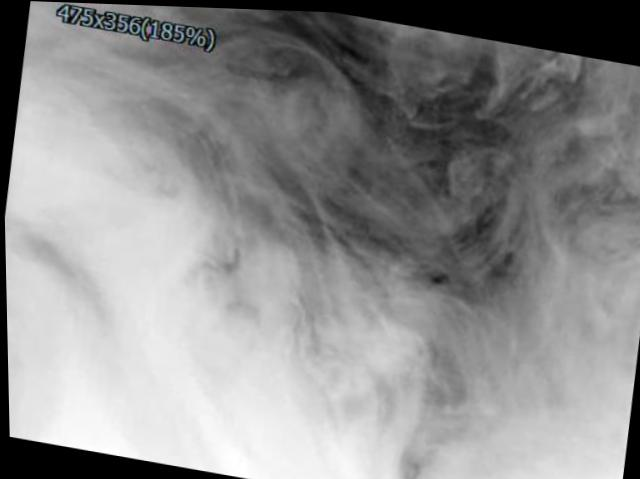smoke: (280, 8, 639, 338), (355, 305, 545, 466), (162, 57, 295, 224)
